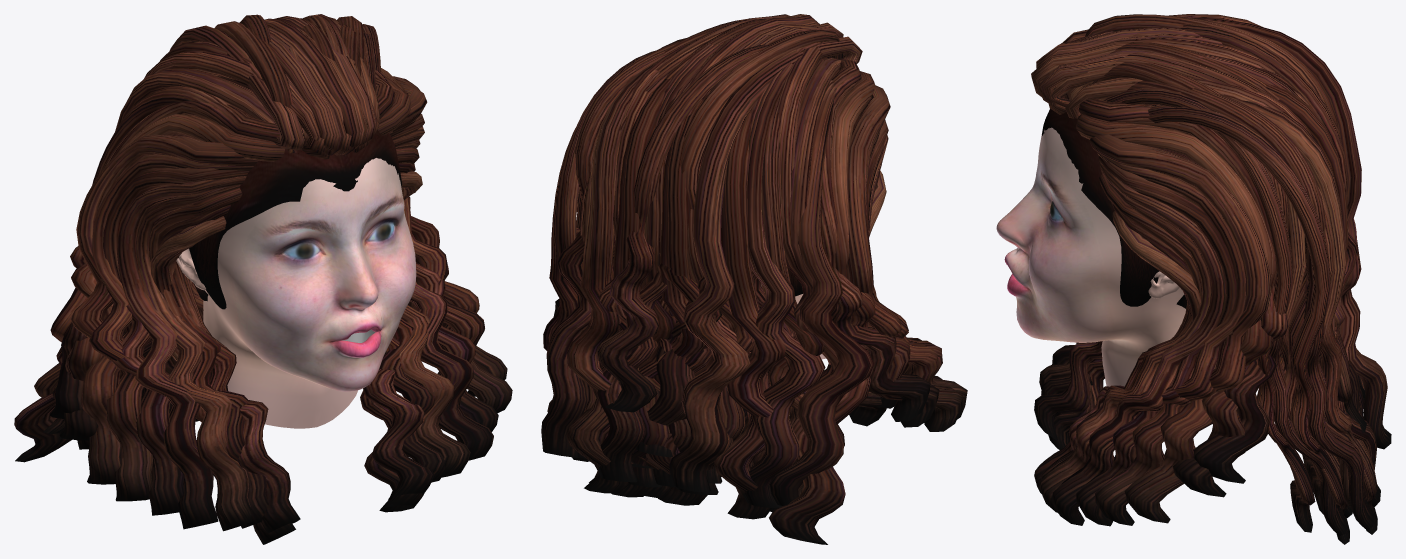
3 renders of one model, left to right at view 1: azimuth 30°, elevation 25°; view 2: azimuth 150°, elevation 25°; view 3: azimuth 270°, elevation 25°, orthographic. The views are drawn at different scales.
Visible parts, largest first — view 1: ch_j_sh; view 2: ch_j_sh; view 3: ch_j_sh.
Boxes of the visible parts, x1,y1,x2,y2 form: ch_j_sh: [14, 14, 512, 544]; ch_j_sh: [541, 14, 967, 544]; ch_j_sh: [996, 14, 1391, 544].
Bounding box in the file's own units: 365 × 387 × 298.
